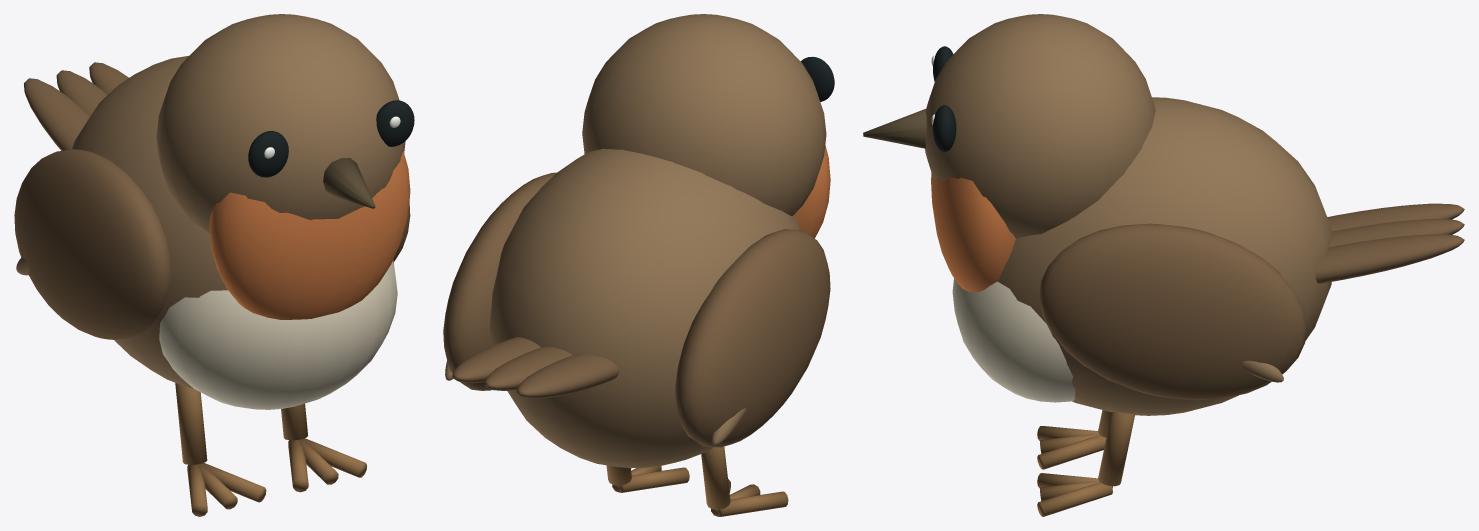
The model's file is vogel_staand.glb.
The picture shows the model from 3 angles, left to right: view 1: azimuth 30°, elevation 25°; view 2: azimuth 150°, elevation 25°; view 3: azimuth 270°, elevation 25°; orthographic projection. The views are drawn at different scales.
Visible parts, largest first — view 1: Robin_head, Robin_folded_wing, Robin_belly, Robin_red_breast, Robin_round_body, Robin_tail_feather, Robin_leg, Robin_beak, Eye.012, Eye.013, Robin_tail_feather.001, Robin_toe.002 (+7 smaller); view 2: Robin_round_body, Robin_head, Robin_folded_wing, Robin_folded_wing.001, Robin_tail_feather, Robin_tail_feather.002, Robin_tail_feather.001, Robin_red_breast, Robin_leg, Robin_toe, Robin_toe.003, Eye.012 (+1 smaller); view 3: Robin_folded_wing.001, Robin_head, Robin_round_body, Robin_belly, Robin_red_breast, Robin_tail_feather.002, Robin_tail_feather, Robin_tail_feather.001, Robin_leg.001, Robin_beak, Robin_toe.005, Robin_toe.002 (+1 smaller).
Boxes of the visible parts, x1,y1,x2,y2 form: Robin_head: (156, 14, 405, 233); Robin_folded_wing: (14, 149, 170, 339); Robin_belly: (159, 260, 397, 409); Robin_red_breast: (209, 150, 410, 319); Robin_round_body: (72, 56, 227, 388); Robin_tail_feather: (24, 78, 89, 150); Robin_leg: (175, 383, 207, 464); Robin_beak: (323, 158, 375, 208); Eye.012: (248, 131, 288, 177); Eye.013: (376, 100, 414, 146); Robin_tail_feather.001: (56, 70, 107, 116); Robin_toe.002: (200, 463, 266, 502); Robin_round_body: (489, 148, 800, 467); Robin_head: (582, 14, 826, 216); Robin_folded_wing: (675, 229, 830, 447); Robin_folded_wing.001: (443, 172, 556, 390); Robin_tail_feather: (516, 354, 618, 398); Robin_tail_feather.002: (452, 337, 540, 383); Robin_tail_feather.001: (484, 346, 572, 390); Robin_red_breast: (794, 145, 830, 238); Robin_leg: (701, 446, 730, 509); Robin_toe: (718, 491, 788, 516); Robin_toe.003: (619, 467, 689, 492); Eye.012: (801, 56, 834, 101); Robin_folded_wing.001: (1039, 223, 1306, 400); Robin_head: (925, 14, 1155, 238); Robin_round_body: (997, 97, 1332, 415); Robin_belly: (952, 278, 1075, 402); Robin_red_breast: (931, 172, 1015, 292); Robin_tail_feather.002: (1315, 234, 1464, 283); Robin_tail_feather: (1327, 203, 1464, 231); Robin_tail_feather.001: (1330, 219, 1464, 247); Robin_leg.001: (1098, 412, 1134, 486); Robin_beak: (863, 109, 926, 148); Robin_toe.005: (1037, 482, 1112, 516); Robin_toe.002: (1037, 435, 1106, 469).
Bounding box in the file's own units: 0.354 × 0.5099 × 0.6136.
